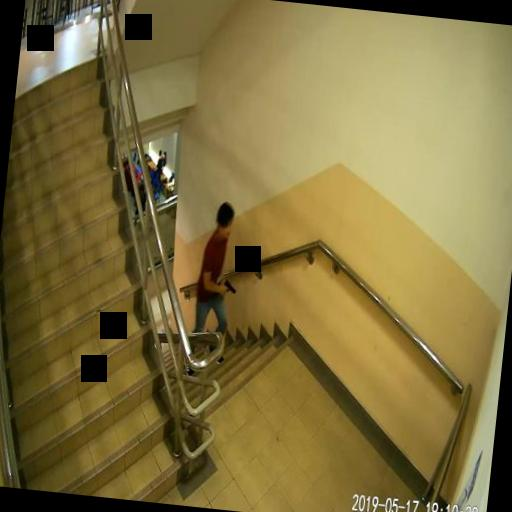Handgun: (220, 277, 236, 295)
